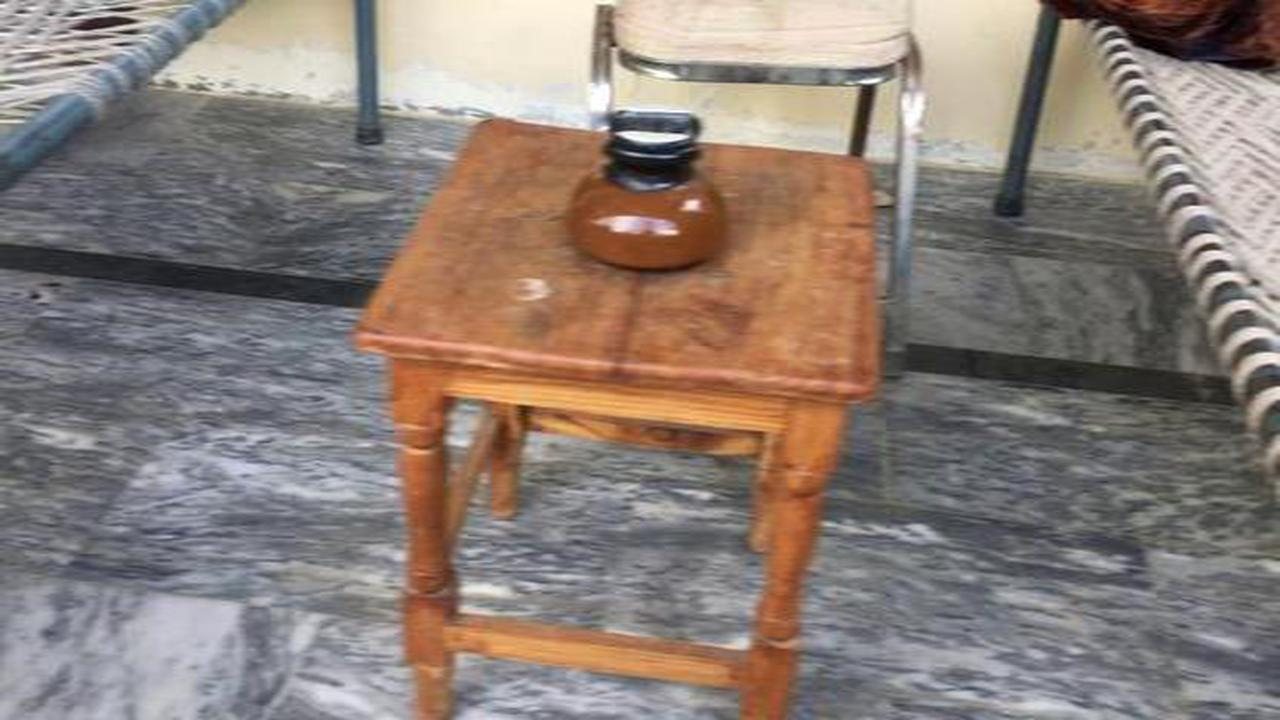insulator_pin: (545, 94, 745, 281)
